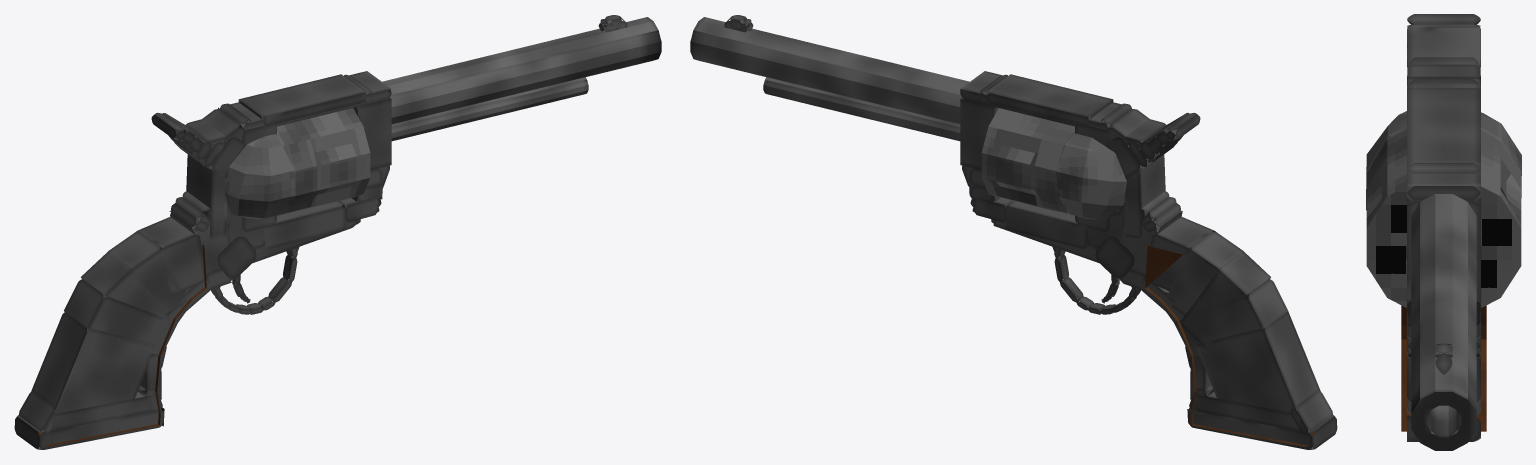
The model's file is rifle 1.fbx.
3 views of the same model, side by side, from view 1: azimuth 30°, elevation 25°; view 2: azimuth 150°, elevation 25°; view 3: azimuth 270°, elevation 25° (orthographic). The views are drawn at different scales.
Parts seen in each view (by area): view 1: tube, cube_2, cylinder, sphere, cube_3, cube_20, tube_1, cube_5, cube_6, cube, cube_4, cube_45 (+14 smaller); view 2: tube, cube_2, cylinder, sphere, cube_4, cube_20, tube_1, cube_5, cube_3, cube, cube_45, cube_9 (+14 smaller); view 3: tube, cylinder, cube_20, cube_58, cube_19, WoodPart, sphere, cube_18, cube_61, cube_67, cube_15, cube_63 (+7 smaller).
Part boxes in pixels (<box>): tube: <box>382,17,661,124</box>; cube_2: <box>31,311,154,424</box>; cylinder: <box>277,108,370,215</box>; sphere: <box>212,134,295,219</box>; cube_3: <box>64,279,177,356</box>; cube_20: <box>238,74,365,125</box>; tube_1: <box>391,77,588,141</box>; cube_5: <box>108,230,186,315</box>; cube_6: <box>138,217,206,295</box>; cube: <box>14,407,164,449</box>; cube_4: <box>81,252,171,341</box>; cube_45: <box>264,201,345,249</box>; tube: <box>690,17,969,124</box>; cube_2: <box>1195,311,1320,412</box>; cylinder: <box>981,108,1074,215</box>; sphere: <box>1056,132,1139,219</box>; cube_4: <box>1181,252,1270,348</box>; cube_20: <box>986,74,1113,126</box>; tube_1: <box>763,77,960,141</box>; cube_5: <box>1166,230,1243,318</box>; cube_3: <box>1174,279,1287,355</box>; cube: <box>1187,407,1337,449</box>; cube_45: <box>1006,201,1087,248</box>; cube_9: <box>1124,154,1165,238</box>; tube: <box>1411,194,1476,450</box>; cylinder: <box>1366,128,1521,307</box>; cube_20: <box>1407,88,1480,173</box>; cube_58: <box>1407,27,1480,65</box>; cube_19: <box>1407,77,1480,200</box>; WoodPart: <box>1401,305,1486,431</box>; sphere: <box>1366,111,1521,210</box>; cube_18: <box>1407,176,1480,299</box>; cube_61: <box>1407,64,1480,79</box>; cube_67: <box>1407,163,1480,173</box>; cube_15: <box>1407,14,1480,24</box>; cube_63: <box>1407,76,1480,84</box>.
Bounding box in the file's own units: 111 × 49.89 × 16.09.
Materials: 3 (3 with a texture image).
